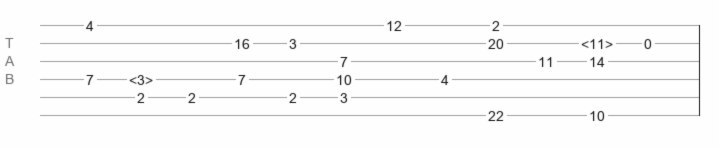0: (644, 36, 652, 46)
10: (336, 72, 352, 82), (589, 108, 605, 118)
11: (538, 54, 554, 64)
12: (386, 18, 402, 28)
14: (589, 54, 605, 64)
16: (234, 36, 250, 46)
2: (137, 90, 145, 100), (188, 90, 196, 100), (289, 90, 297, 100), (492, 18, 500, 28)
20: (488, 36, 504, 46)
22: (488, 108, 504, 118)
3: (289, 36, 297, 46), (340, 90, 348, 100)
4: (86, 18, 94, 28), (441, 72, 449, 82)
7: (86, 72, 94, 82), (238, 72, 246, 82), (340, 54, 348, 64)
harmonic: (581, 36, 613, 46), (129, 72, 153, 82)
